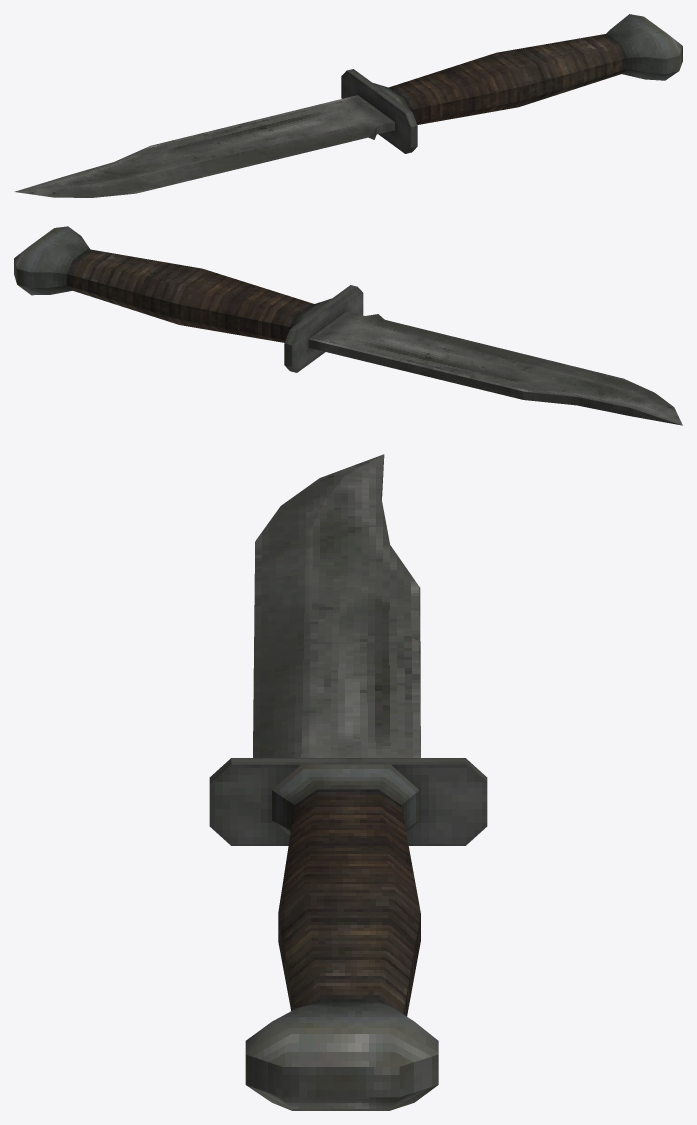
The model's file is knife_mp_1.glb.
3 renders of one model, top to bottom at view 1: azimuth 30°, elevation 25°; view 2: azimuth 150°, elevation 25°; view 3: azimuth 270°, elevation 25°, orthographic. The views are drawn at different scales.
Parts seen in each view (by area): view 1: knife_mp_1; view 2: knife_mp_1; view 3: knife_mp_1.
Boxes of the visible parts, x1,y1,x2,y2 form: knife_mp_1: (14,14,682,197); knife_mp_1: (14,226,682,425); knife_mp_1: (209,454,487,1110).
Bounding box in the file's own units: 0.4384 × 0.0264 × 0.0819.
1 material, 1 textured.
